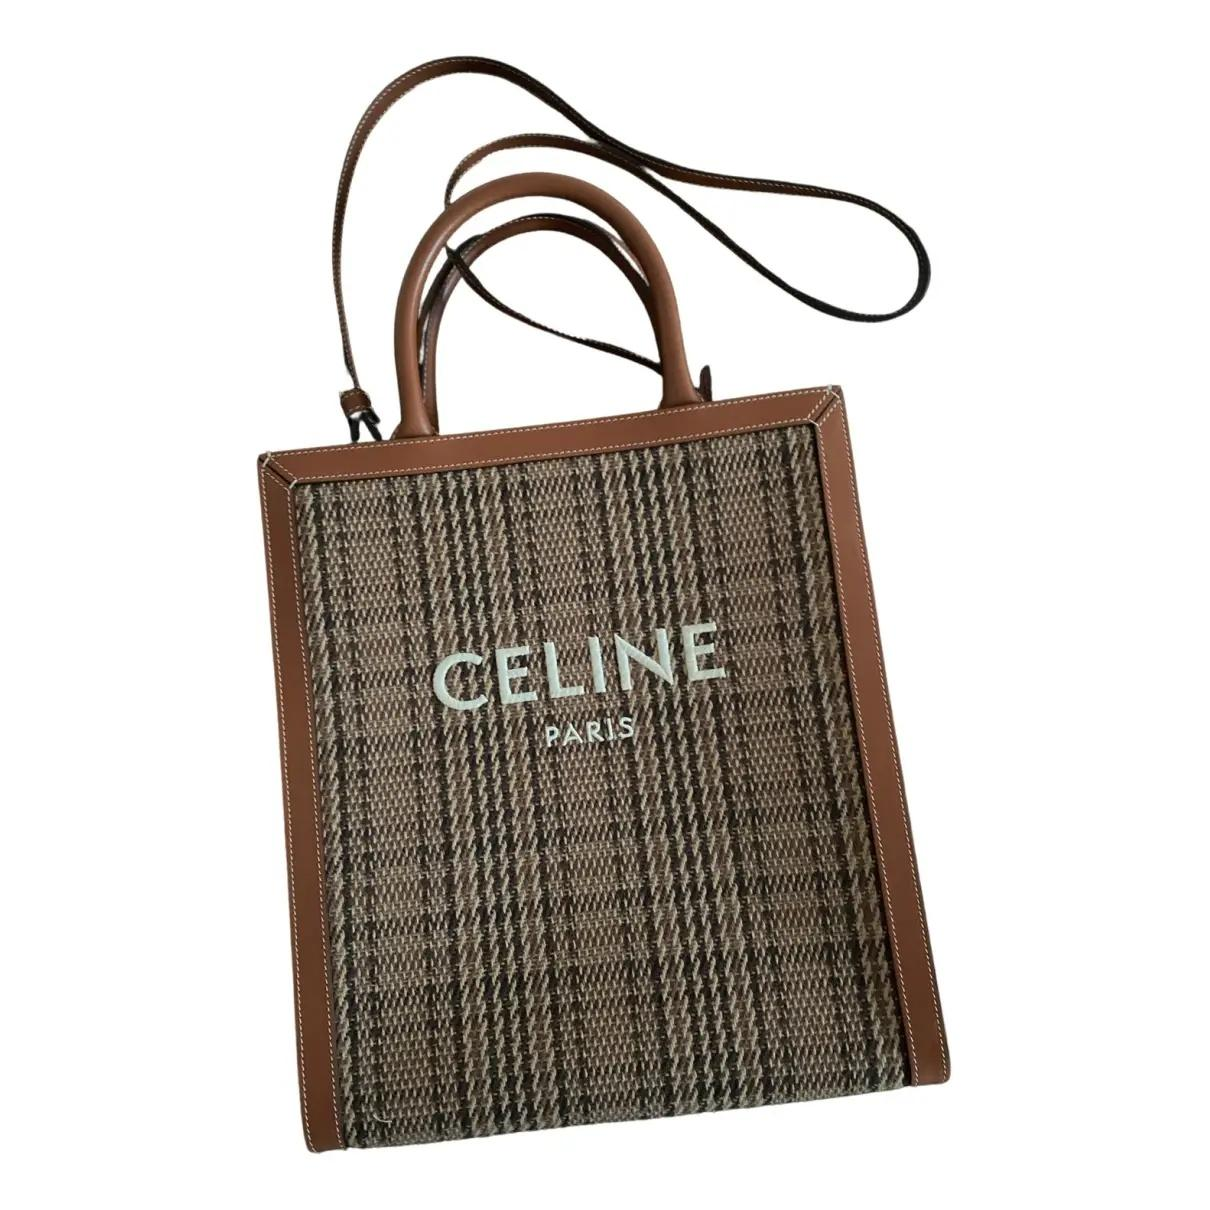CELINE: (434, 622, 727, 712)
